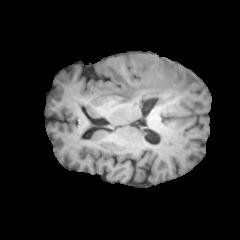glioma: (98, 56, 199, 124)
